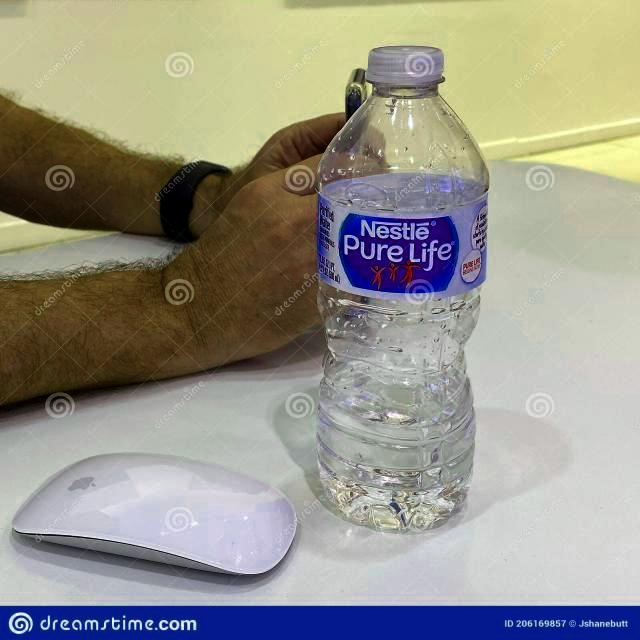bottle: (316, 45, 490, 535)
